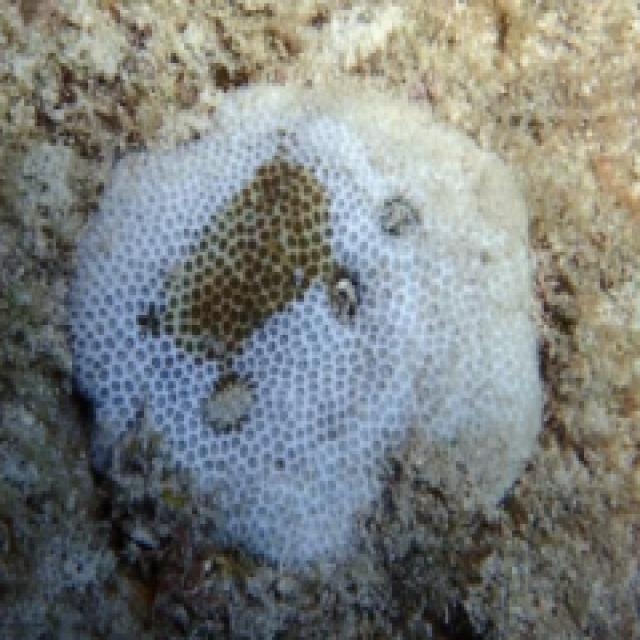Coral: (65, 80, 547, 570)
